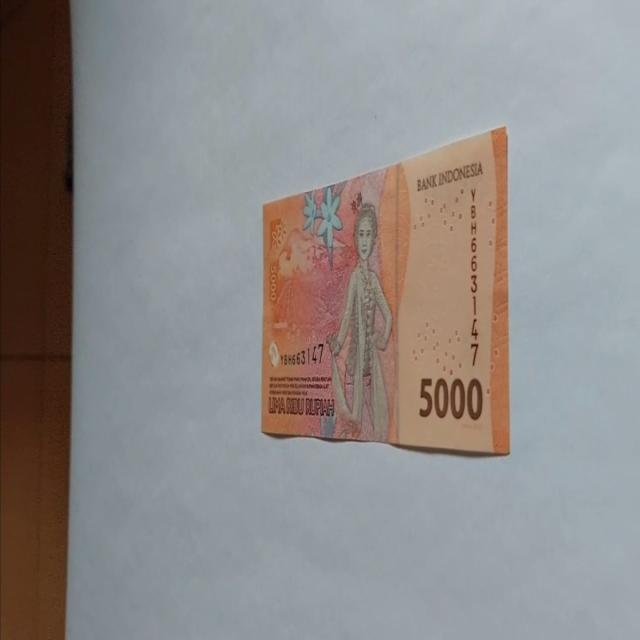lima ribu rupiah: (260, 124, 510, 456), (325, 201, 393, 442)
